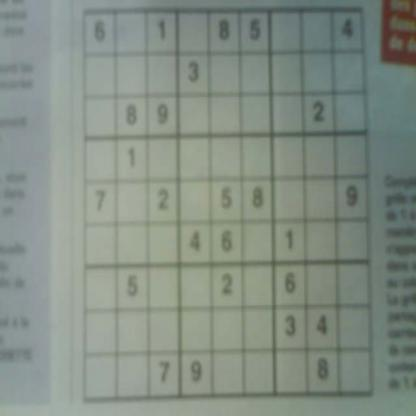sudoku: (78, 2, 377, 407)
